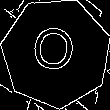O_S: (31, 24, 81, 82)
